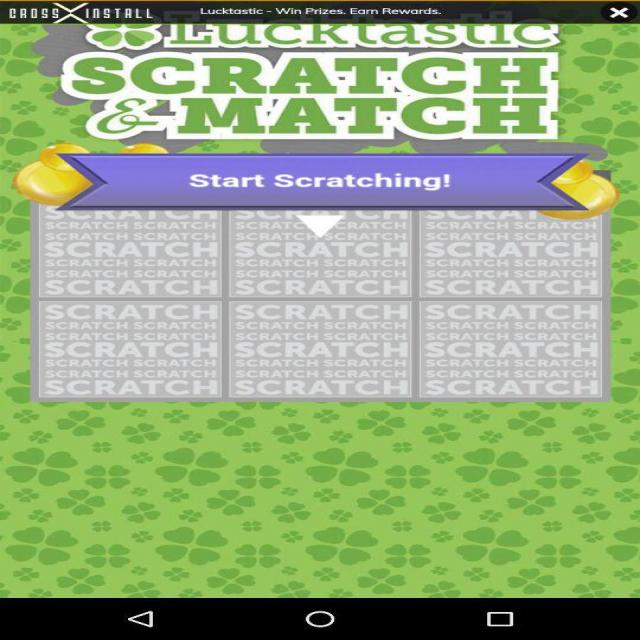image: (24, 18, 615, 393)
